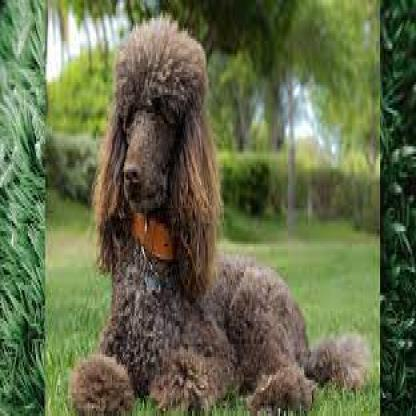Poodle: (68, 18, 341, 410)
